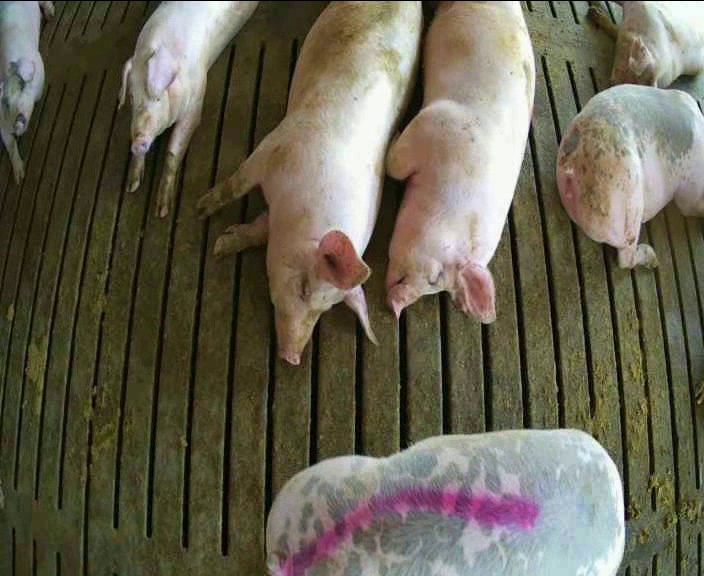pig: (198, 3, 419, 363), (267, 430, 624, 574), (387, 3, 533, 322), (120, 2, 255, 216), (557, 84, 703, 267), (589, 2, 703, 87)
